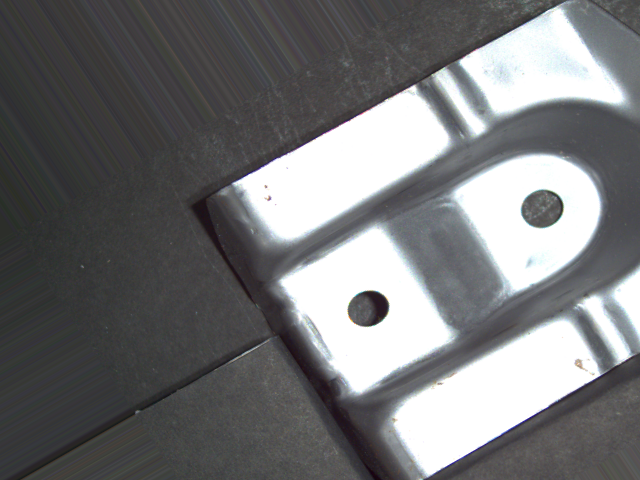defect: (519, 185, 568, 231)
